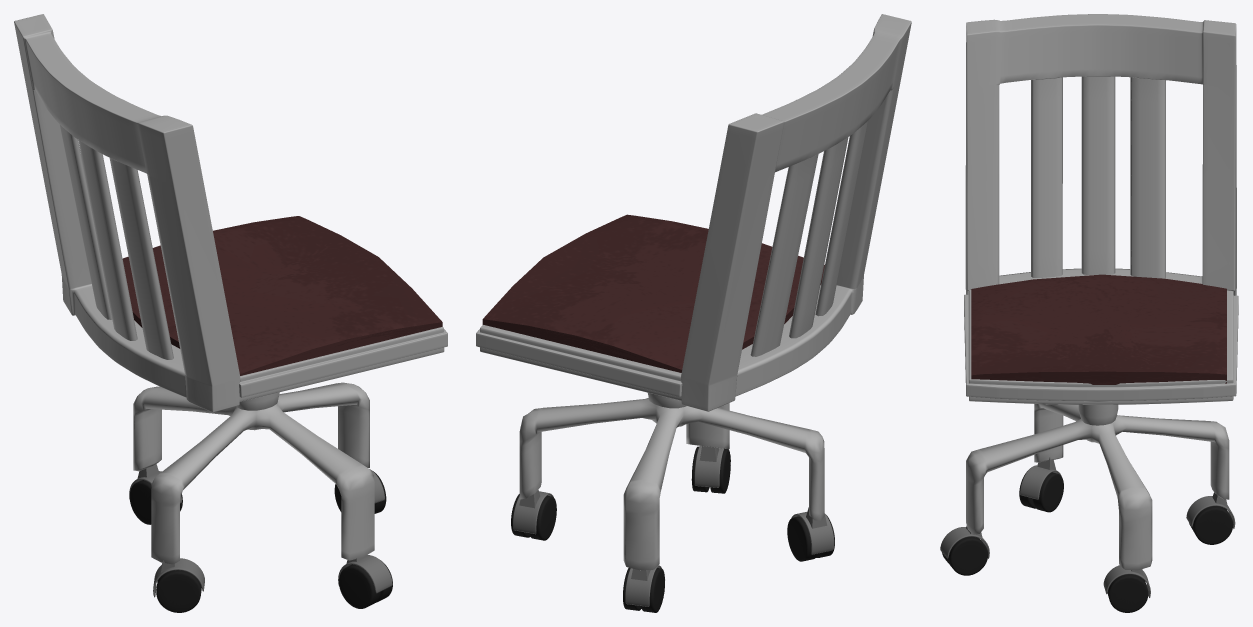
The model's file is WoodChair02.fbx.
The picture shows the model from 3 angles, left to right: view 1: azimuth 30°, elevation 25°; view 2: azimuth 150°, elevation 25°; view 3: azimuth 270°, elevation 25°; orthographic projection. The views are drawn at different scales.
Parts seen in each view (by area): view 1: pCube54, pCube55, pCylinder2 (×3), pCylinder3 (×2); view 2: pCube54, pCube55, pCylinder3 (×4), pCylinder2 (×2), pCylinder1; view 3: pCube54, pCube55, pCylinder1 (×4), pCylinder3 (×4).
Part boxes in pixels (bbox=[...]): pCube54: bbox=[14, 14, 447, 564]; pCube55: bbox=[122, 216, 442, 375]; pCylinder2 (×3): bbox=[129, 480, 380, 612]; pCylinder3 (×2): bbox=[153, 555, 392, 597]; pCube54: bbox=[476, 14, 911, 570]; pCube55: bbox=[482, 214, 824, 372]; pCylinder3 (×4): bbox=[513, 446, 834, 606]; pCylinder2 (×2): bbox=[529, 495, 664, 612]; pCylinder1: bbox=[787, 516, 817, 561]; pCube54: bbox=[964, 14, 1238, 570]; pCube55: bbox=[971, 274, 1226, 384]; pCylinder1 (×4): bbox=[947, 472, 1233, 612]; pCylinder3 (×4): bbox=[940, 457, 1235, 597].
Size of the model in its own units: 2.27 by 3.45 by 2.02.
